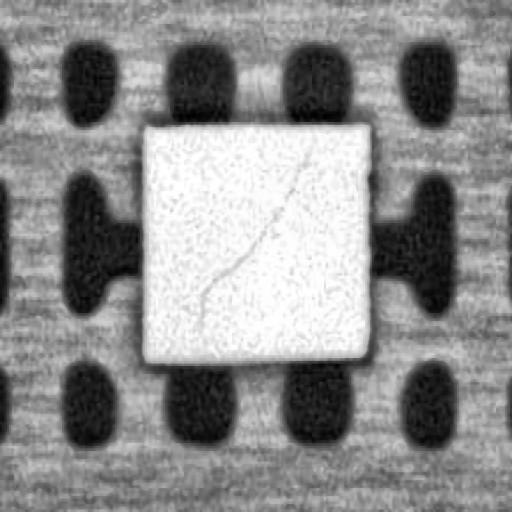DIE_CRACK: (200, 133, 314, 289)
